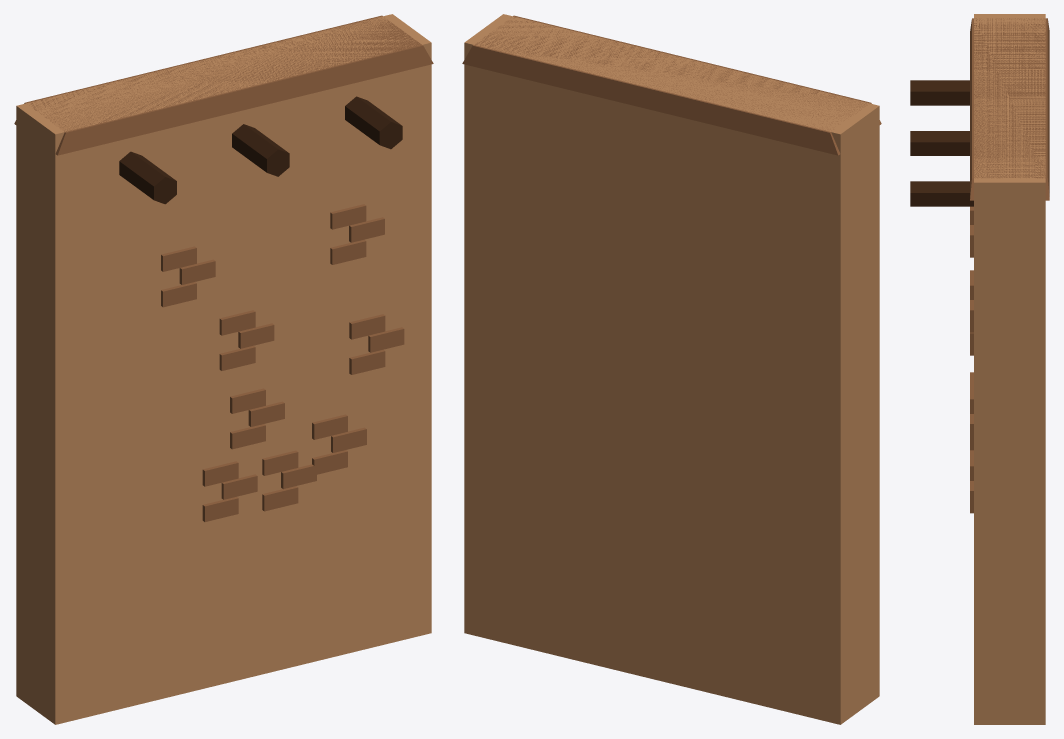
Rendered from SM_Wall_Adobe.obj.
The picture shows the model from 3 angles, left to right: view 1: azimuth 30°, elevation 25°; view 2: azimuth 150°, elevation 25°; view 3: azimuth 270°, elevation 25°; orthographic projection. The views are drawn at different scales.
Parts seen in each view (by area): view 1: SM_Wall_Adobe; view 2: SM_Wall_Adobe; view 3: SM_Wall_Adobe.
Part boxes in pixels (x1=…): SM_Wall_Adobe: x1=14, y1=14, x2=433, y2=724; SM_Wall_Adobe: x1=462, y1=14, x2=881, y2=724; SM_Wall_Adobe: x1=910, y1=14, x2=1049, y2=724.
Bounding box in the file's own units: 2 × 3 × 0.7.
